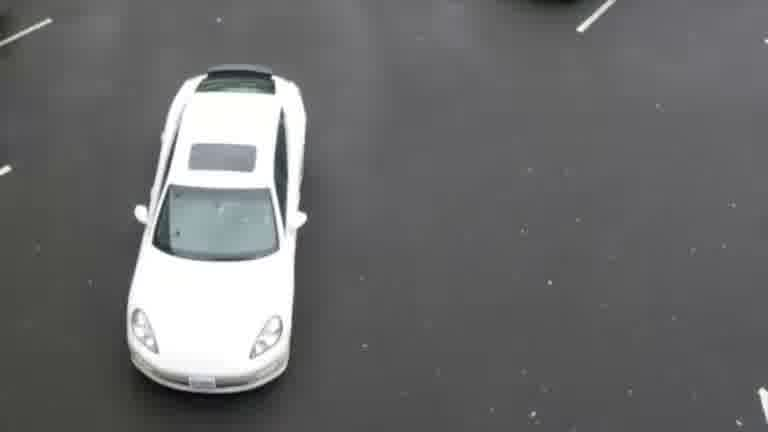car: (116, 39, 343, 402)
